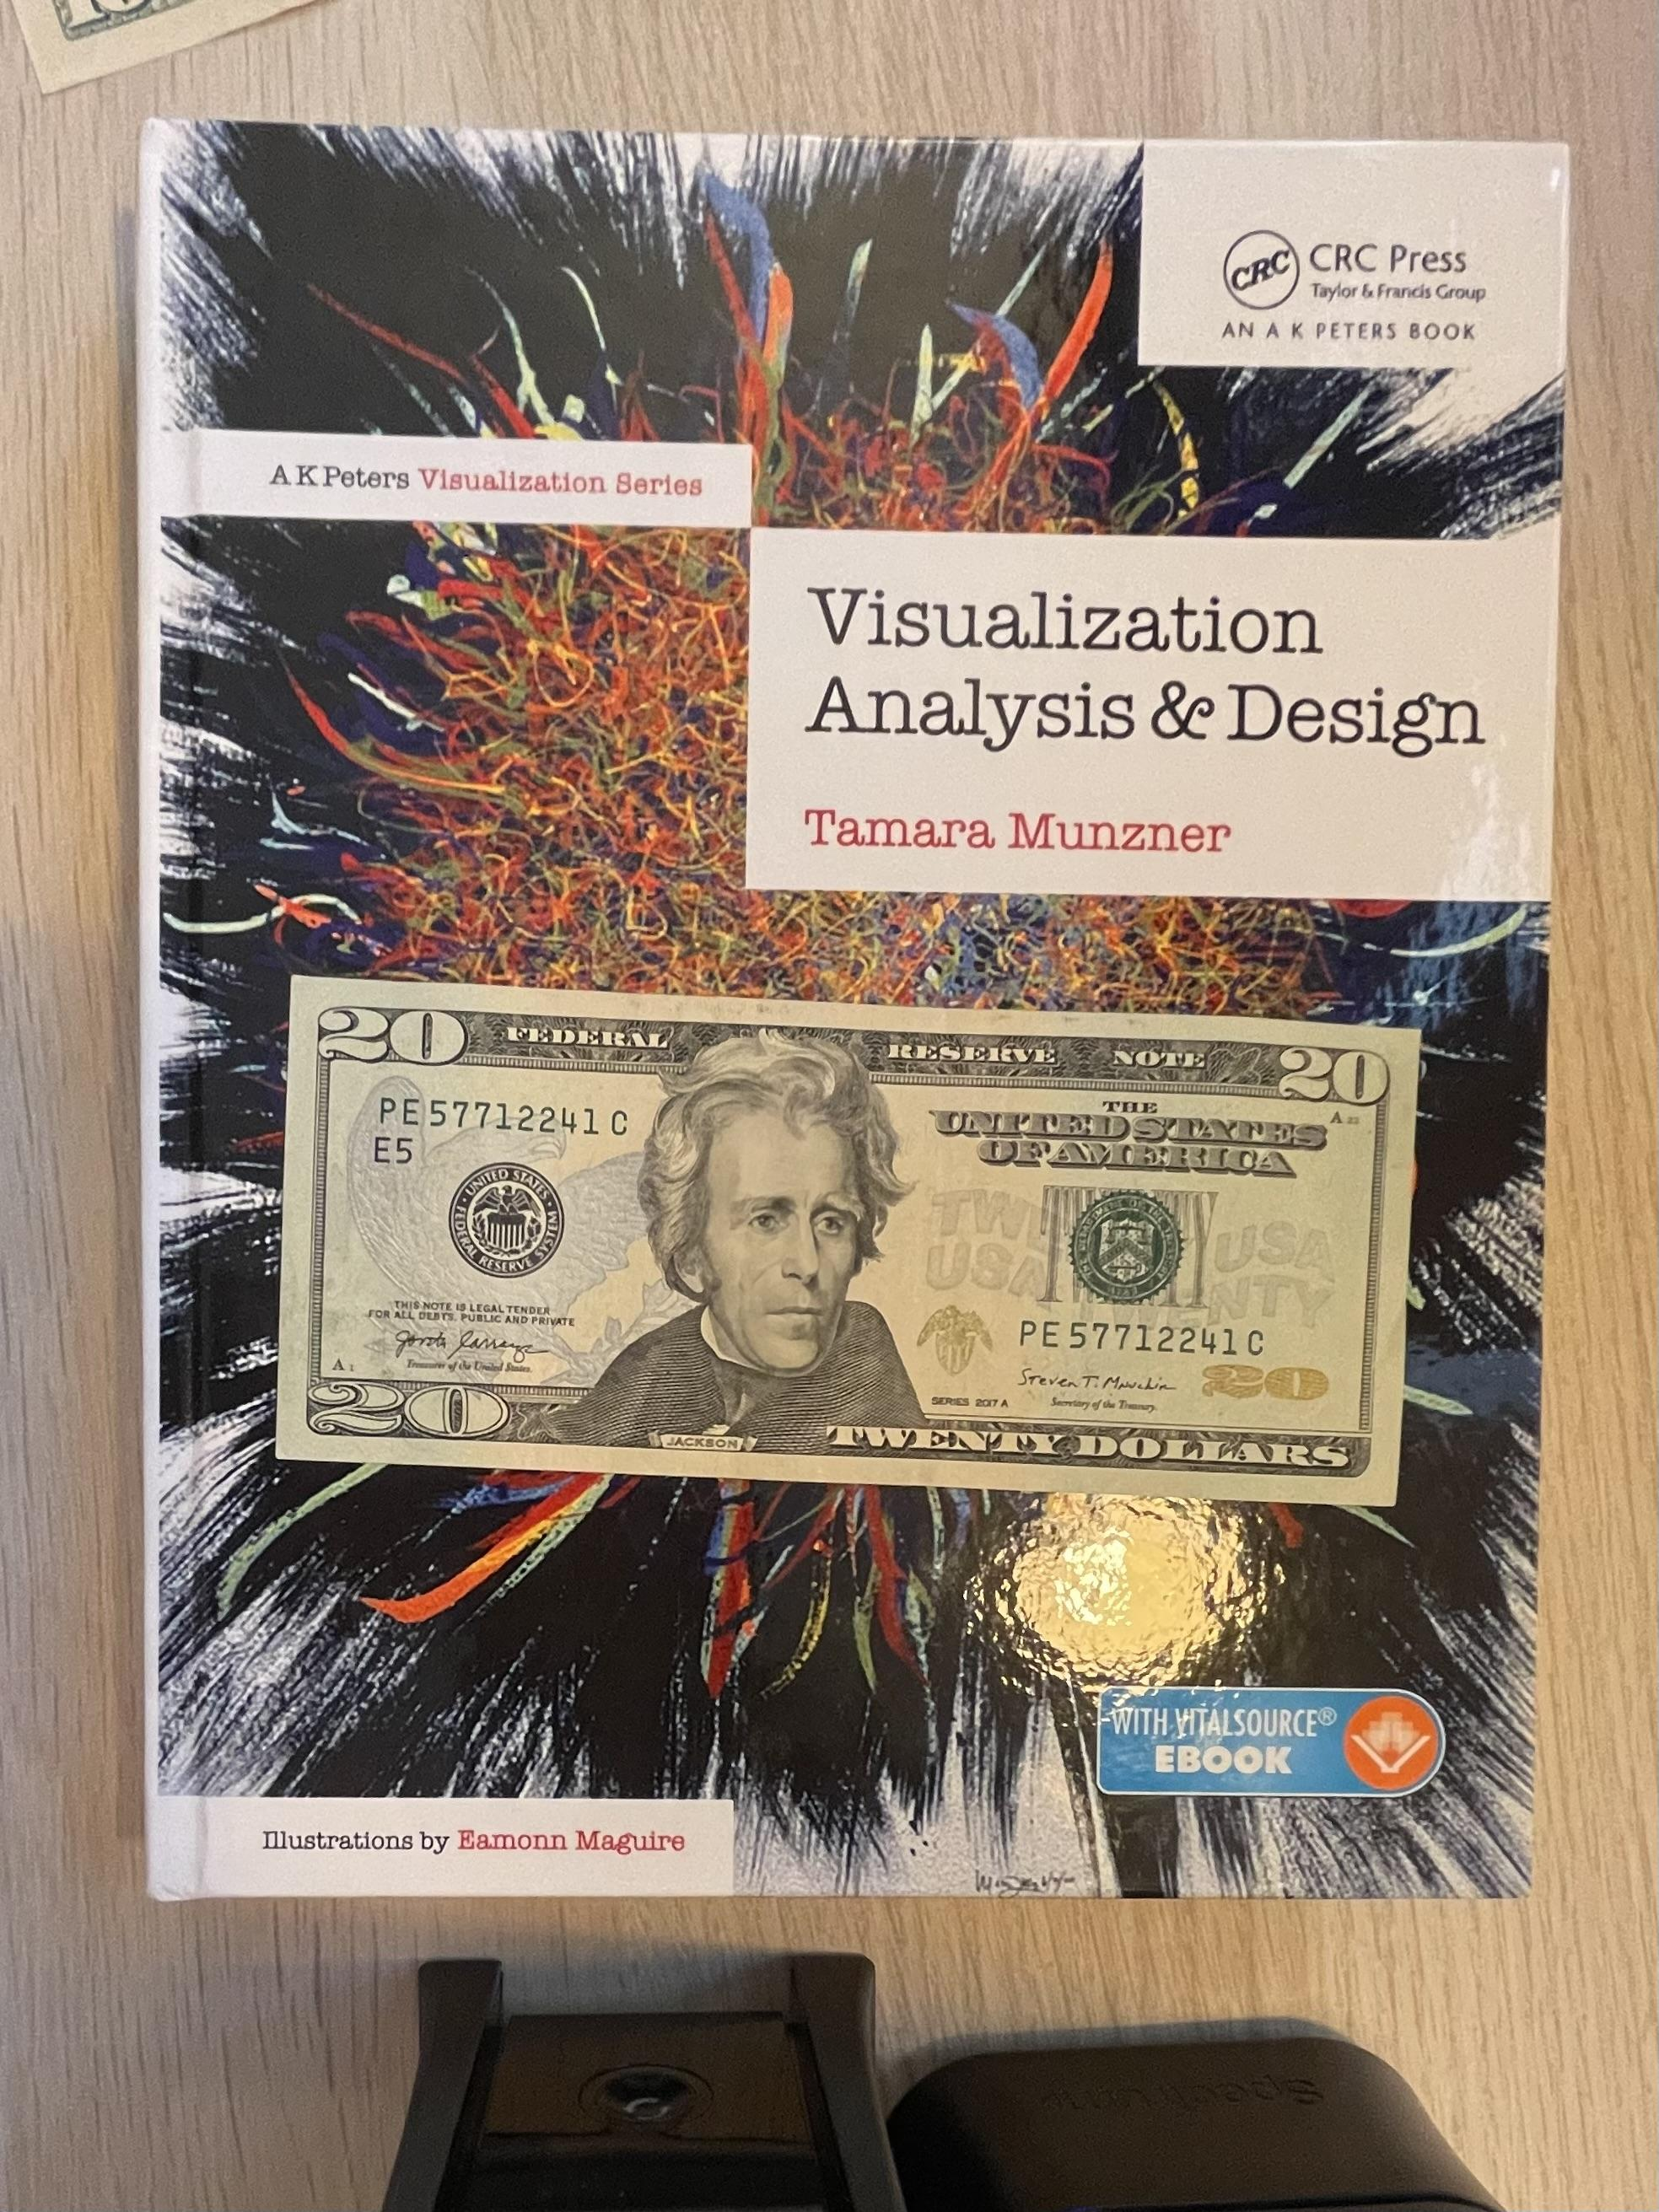TwentyBill: (274, 972, 1422, 1508)
